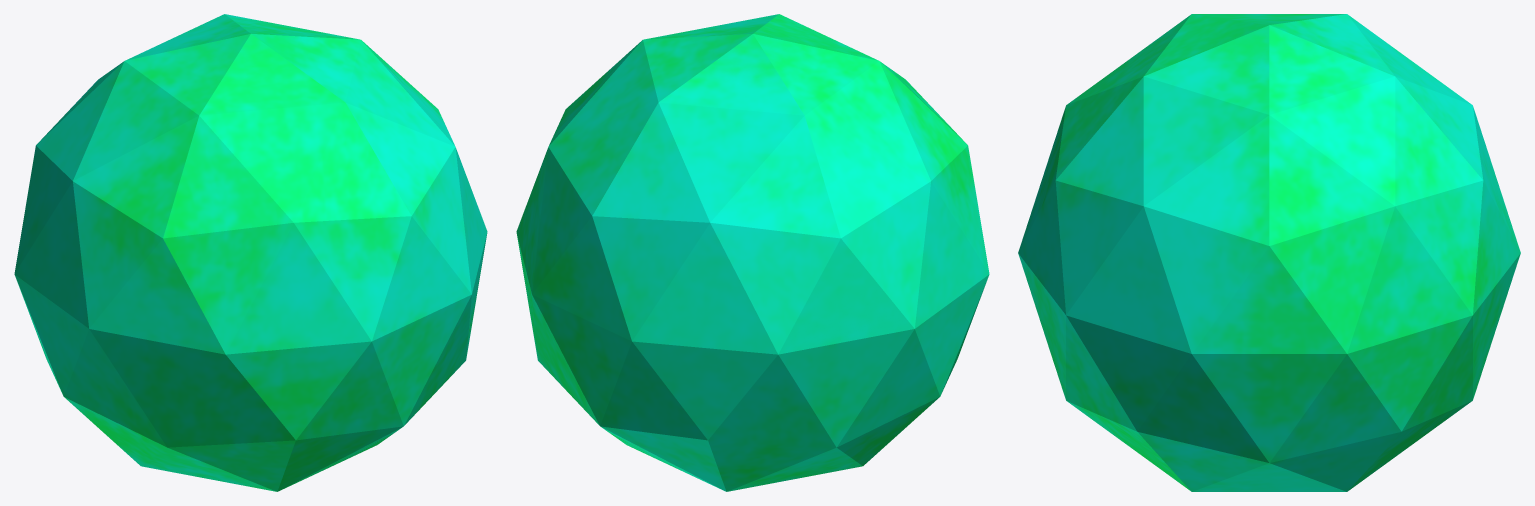
File: player.obj
The picture shows the model from 3 angles, left to right: view 1: azimuth 30°, elevation 25°; view 2: azimuth 150°, elevation 25°; view 3: azimuth 270°, elevation 25°; orthographic projection. The views are drawn at different scales.
Visible parts, largest first — view 1: ICO球; view 2: ICO球; view 3: ICO球.
Boxes of the visible parts, <box> form: ICO球: <box>14,14,487,491</box>; ICO球: <box>516,14,989,491</box>; ICO球: <box>1018,14,1520,491</box>.
Bounding box in the file's own units: 0.9511 × 1 × 1.
